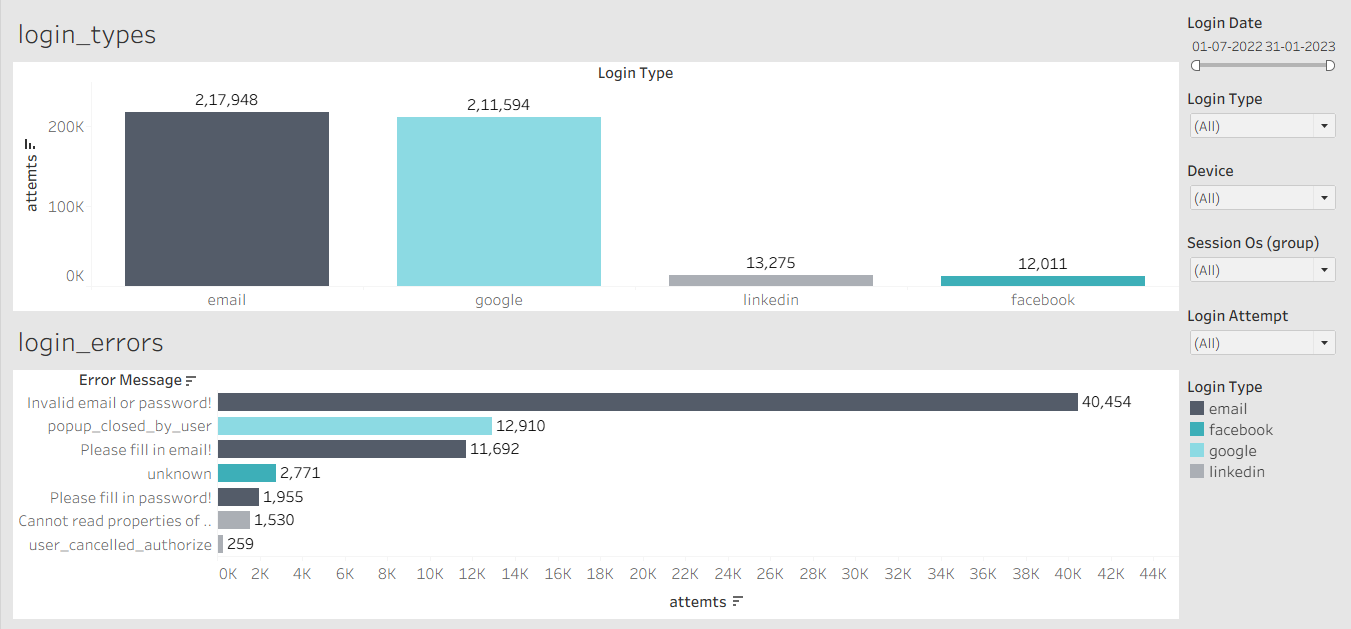

What the dashboard file says about the page in this screenshot:
{"tool":"tableau","page":{"name":"Dashboard 3","canvas":[1350,631],"ordinal":2},"visuals":[{"type":"worksheet","title":"login_types","mark":"Automatic","rows":["Calculation_237846361195843590"],"cols":["login_type"],"box":[8,8,1174,307.5]},{"type":"filter","title":"login_types","param":"[federated.1k1na6908a18801dqdj2e1rys4vz].[none:login_date:qk]","box":[1182,8,160,76]},{"type":"filter","title":"login_errors","param":"[federated.1k1na6908a18801dqdj2e1rys4vz].[none:login_type:nk]","box":[1182,84,160,72]},{"type":"filter","title":"login_types","param":"[federated.1k1na6908a18801dqdj2e1rys4vz].[none:device:nk]","box":[1182,156,160,72]},{"type":"filter","title":"login_types","param":"[federated.1k1na6908a18801dqdj2e1rys4vz].[Session Os (group)]","box":[1182,228,160,73]},{"type":"filter","title":"login_types","param":"[federated.1k1na6908a18801dqdj2e1rys4vz].[none:login_attempt:nk]","box":[1182,301,160,71]},{"type":"worksheet","title":"login_errors","mark":"Automatic","rows":["error_message"],"cols":["Calculation_237846361195843590"],"box":[8,315.5,1174,307.5]},{"type":"legend","title":"login_errors","param":"[federated.1k1na6908a18801dqdj2e1rys4vz].[none:login_type:nk]","box":[1182,372,160,114]}]}

Visuals, with their boxes in screenshot pixels (x1, y1, x2, y2), scaled from the page's 1350x631 canvas onto the 1351x629 screenshot:
"login_types" worksheet: locate(8, 8, 1183, 314)
"login_types" filter: locate(1183, 8, 1343, 84)
"login_errors" filter: locate(1183, 84, 1343, 156)
"login_types" filter: locate(1183, 156, 1343, 227)
"login_types" filter: locate(1183, 227, 1343, 300)
"login_types" filter: locate(1183, 300, 1343, 371)
"login_errors" worksheet: locate(8, 314, 1183, 621)
"login_errors" legend: locate(1183, 371, 1343, 484)
